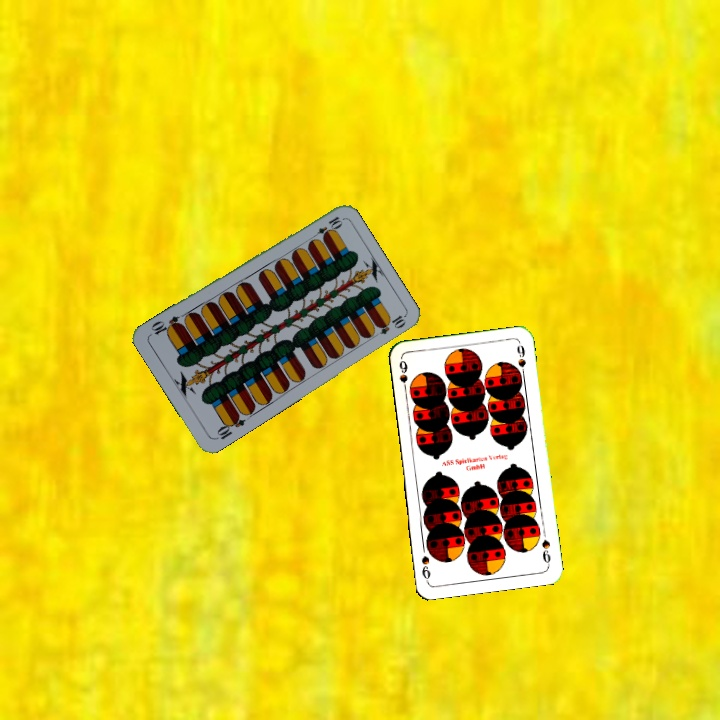E10: (211, 410, 248, 442), (307, 212, 345, 243)
S9: (395, 356, 410, 396), (538, 535, 553, 568)
